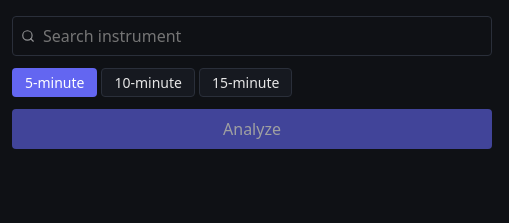
Test: InstrumentSearch › shows an error banner when the search fails instead of failing silently
Type "infy" into the field labelled "instrument search" at (263, 36), box x1=43 y1=17 x2=483 y2=55
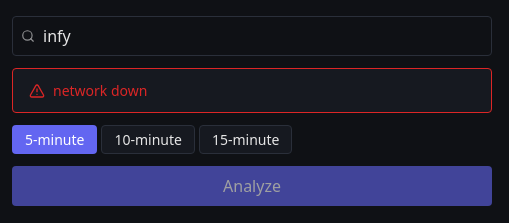
Check: the text "network down" is shown, box x1=53 y1=81 x2=147 y2=100
Check: the message "network down" is shown, box x1=12 y1=68 x2=492 y2=113
